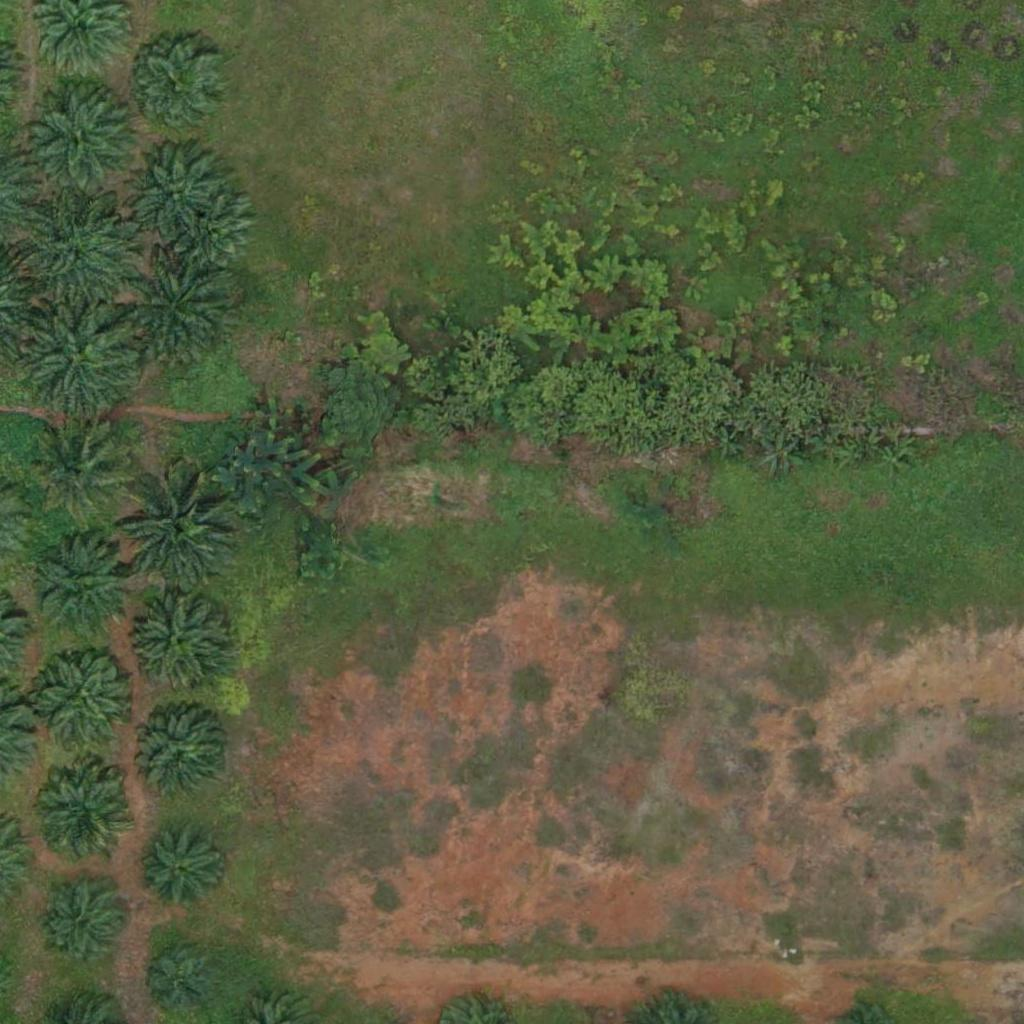Kelapa_Sawit: (26, 640, 139, 754), (26, 88, 139, 201), (19, 199, 132, 312), (121, 261, 234, 374), (124, 476, 236, 589), (24, 303, 136, 416), (29, 534, 141, 647), (34, 424, 134, 525), (128, 590, 228, 691), (130, 704, 230, 804), (31, 764, 131, 864), (135, 828, 223, 916), (137, 43, 224, 131), (130, 150, 217, 238), (165, 190, 252, 278), (37, 880, 124, 968), (148, 948, 211, 1011)
